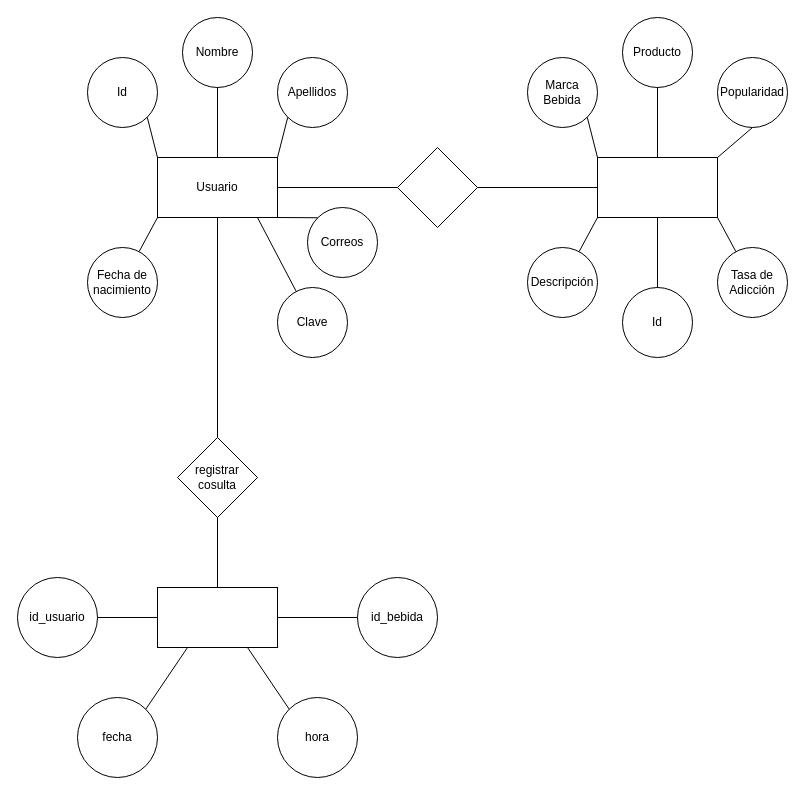
Some shapes in this 805 by 795 pixel diagram are drawn without their labels. The shapes that lost their labels are listed below. From the top down, each one's centre as x and y in pixels, then its label:
At (x=437, y=187): "Informar".
At (x=657, y=187): "Bebidas energeticas".
At (x=217, y=617): "Consultas".
